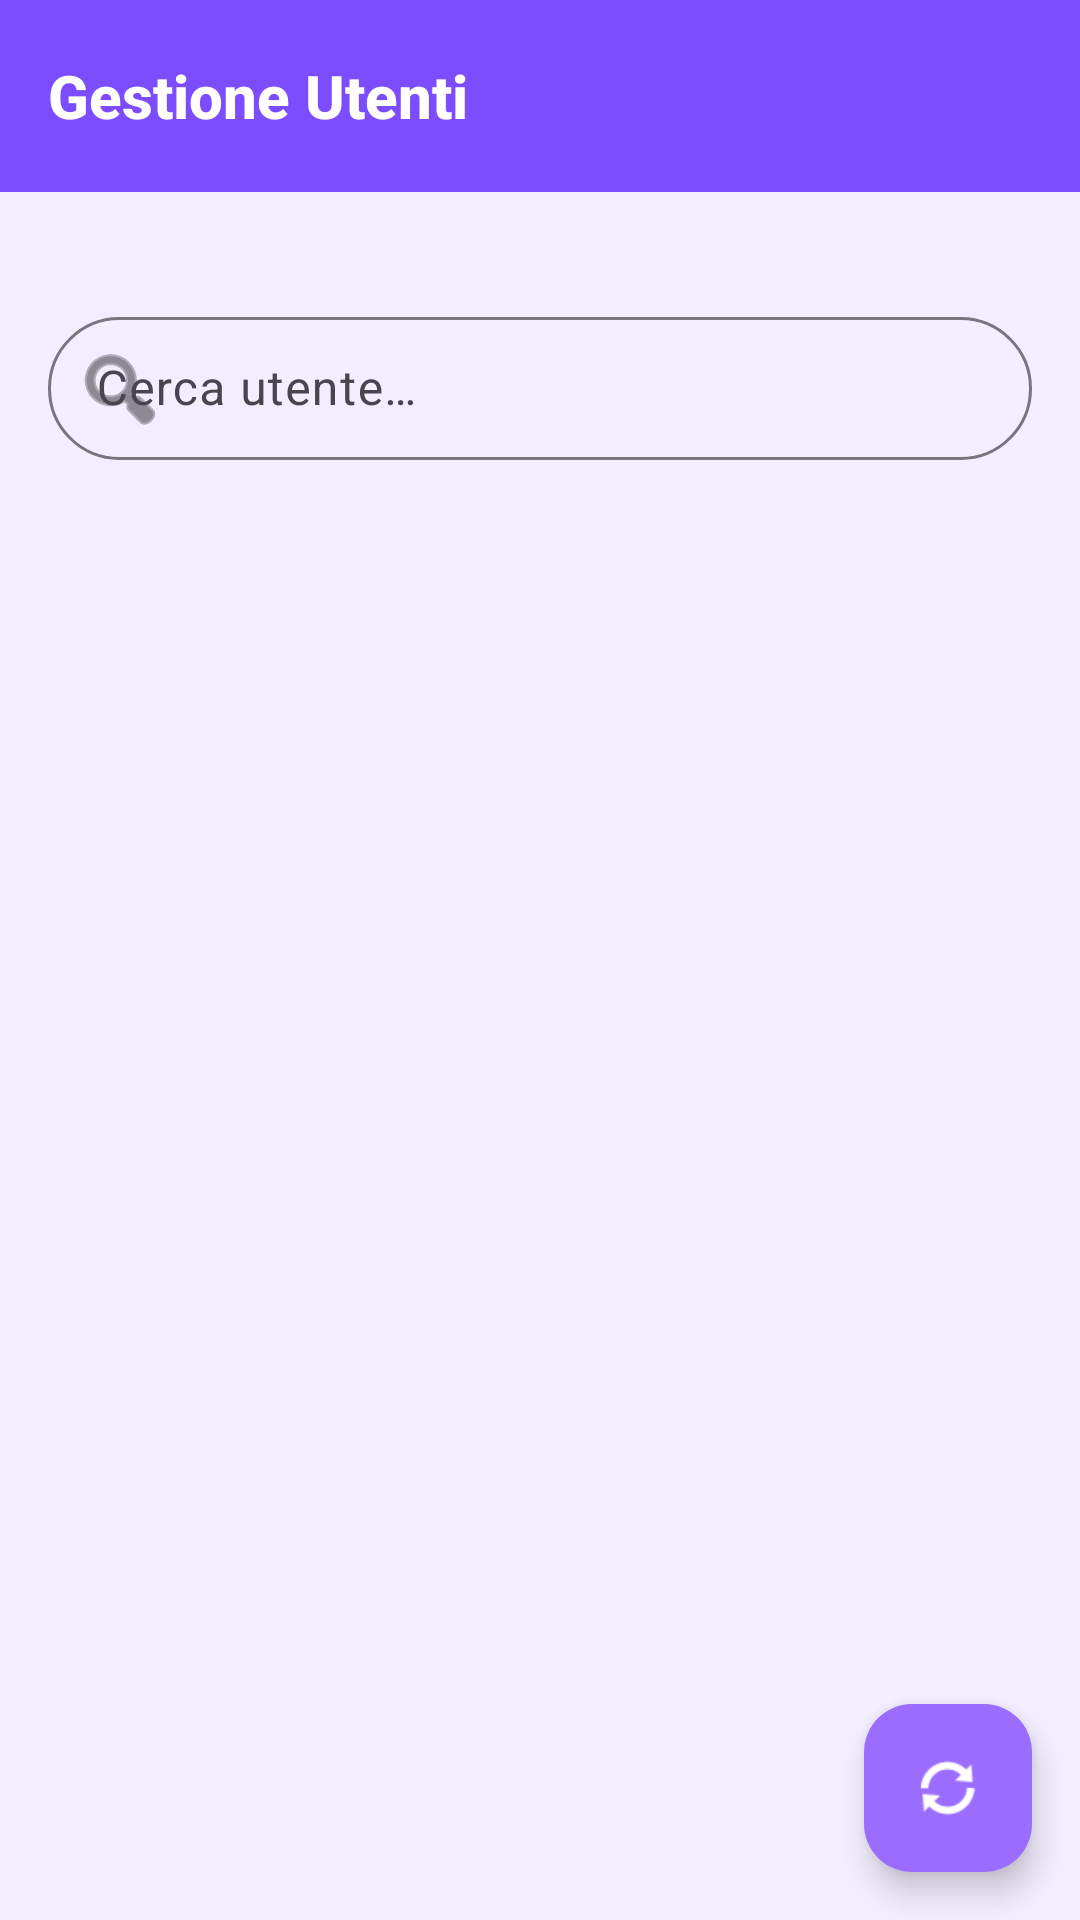

Icon bounding boxes for this 1080 x 1920 phone screenshot, format (x1, y1, x2, y2):
Aggiorna: (864, 1704, 1032, 1872)
